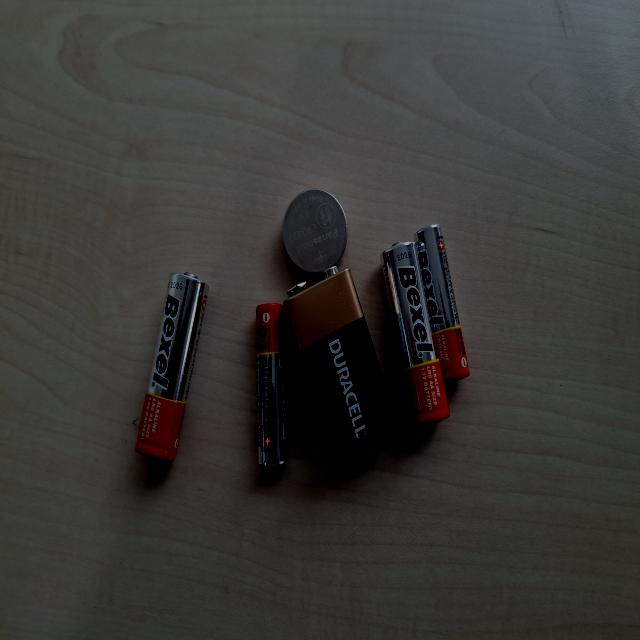9V: (133, 378, 280, 530)
AA: (134, 180, 274, 278), (161, 508, 299, 598)
AAA: (194, 553, 312, 625), (130, 342, 252, 382)
COIN: (276, 377, 338, 463)
